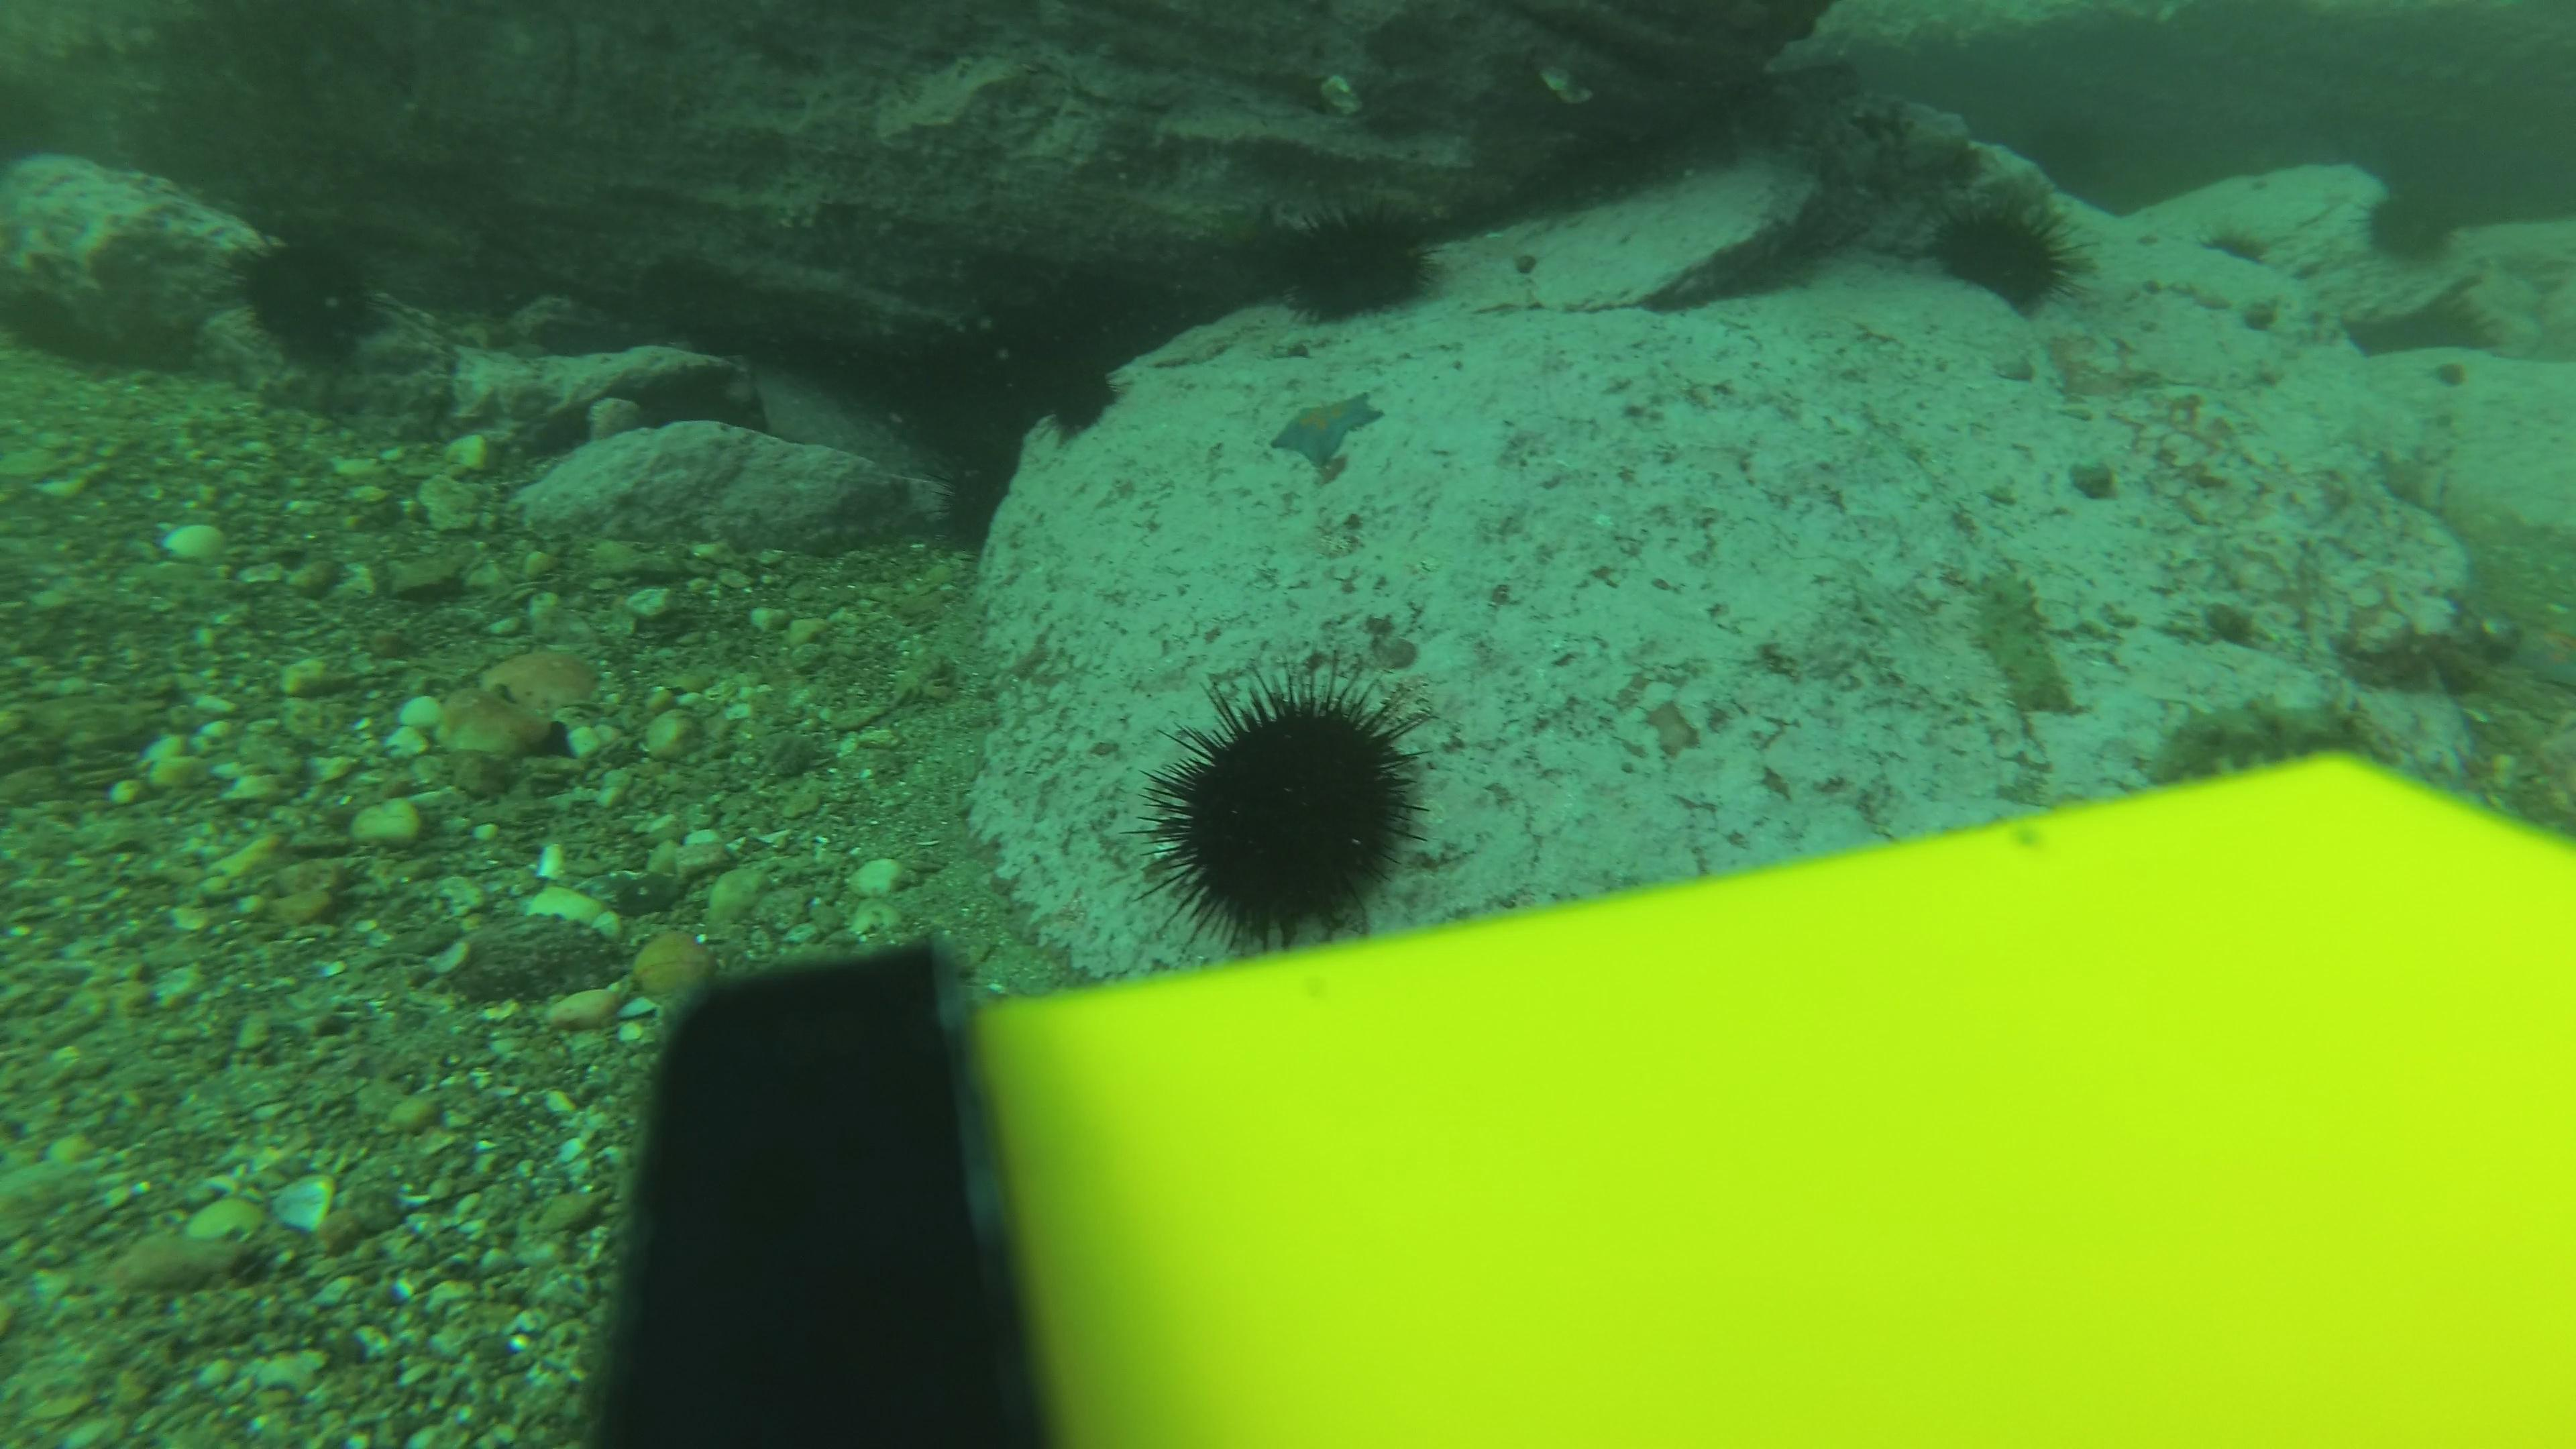urchin: (1145, 640, 1435, 941), (1265, 195, 1430, 310), (251, 242, 382, 370), (1934, 191, 2075, 308), (996, 331, 1139, 435)
